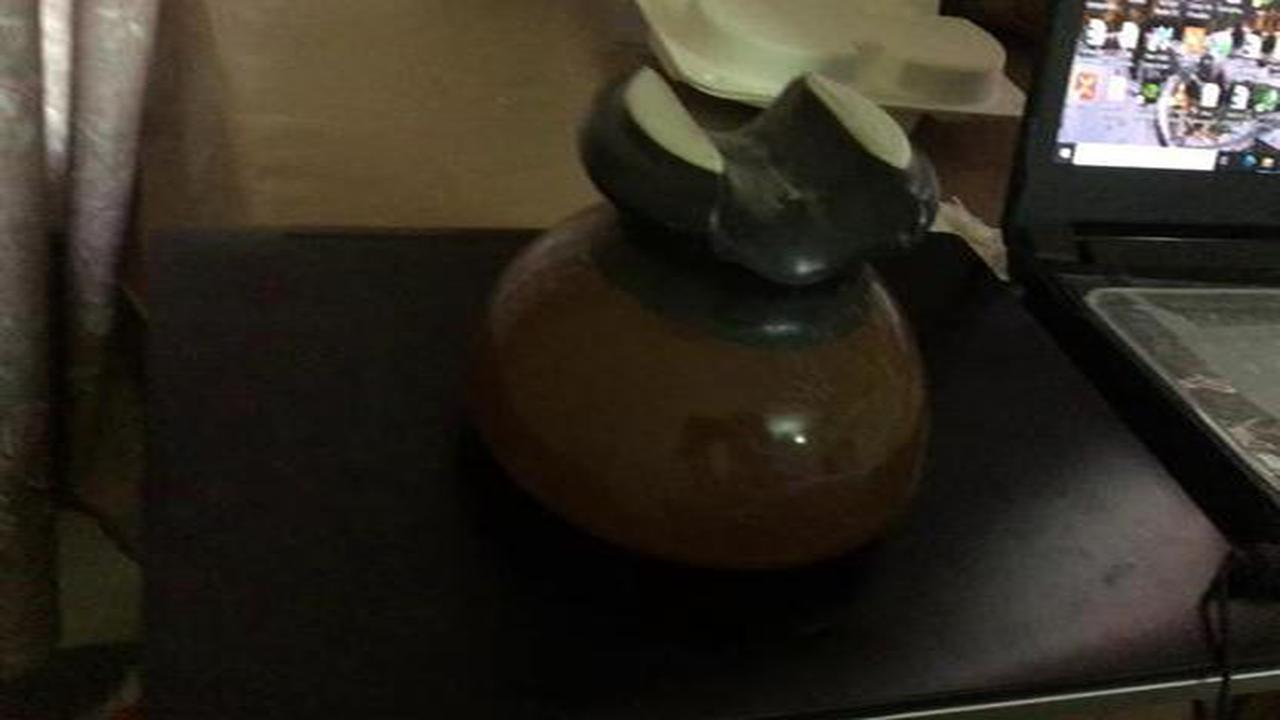insulator_pin: (444, 46, 979, 589)
